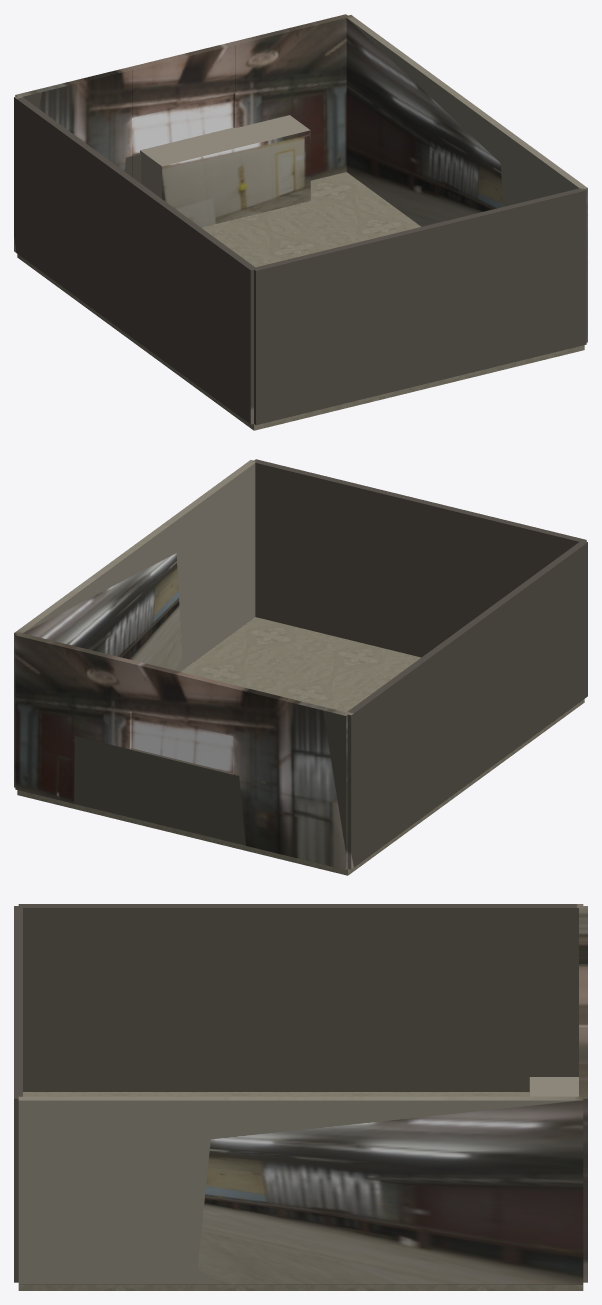
The model's file is warehouse.glb.
3 renders of one model, top to bottom at view 1: azimuth 30°, elevation 25°; view 2: azimuth 150°, elevation 25°; view 3: azimuth 270°, elevation 25°, orthographic. The views are drawn at different scales.
Visible parts, largest first — view 1: front-estimated solid 0, left solid 0, right solid 0, back-object-1 solid, Reconstructed floor, back solid 3, back solid 0, back solid 2, back window 0; view 2: front-estimated solid 0, left solid 0, right solid 0, back solid 3, back solid 0, Reconstructed floor, back solid 1, back solid 2, back window 0; view 3: right solid 0, left solid 0, Reconstructed floor, front-estimated solid 0, back solid 3, back-object-1 solid, back solid 0, back solid 2.
Part boxes in pixels (x1,y1,x2,y2): front-estimated solid 0: (252,188,586,424); left solid 0: (14,95,256,424); right solid 0: (346,15,587,342); back-object-1 solid: (140,115,310,227); Reconstructed floor: (17,172,584,430); back solid 3: (231,14,349,180); back solid 0: (15,67,131,176); back solid 2: (129,42,234,117); back window 0: (132,93,233,154); front-estimated solid 0: (252,459,586,657); left solid 0: (347,540,587,869); right solid 0: (14,460,255,787); back solid 3: (15,632,133,817); back solid 0: (233,685,349,869); Reconstructed floor: (17,617,584,875); back solid 1: (130,748,232,842); back solid 2: (130,660,236,736); back window 0: (131,712,232,772); right solid 0: (18,1096,583,1284); left solid 0: (18,904,583,1091); Reconstructed floor: (18,1092,583,1290); front-estimated solid 0: (14,906,22,1282); back solid 3: (579,1031,587,1282); back-object-1 solid: (529,1077,578,1096); back solid 0: (579,906,587,971); back solid 2: (579,972,587,1031).
Size of the model in its own units: 6.17 by 2.82 by 7.63.
8 materials, 6 textured.
